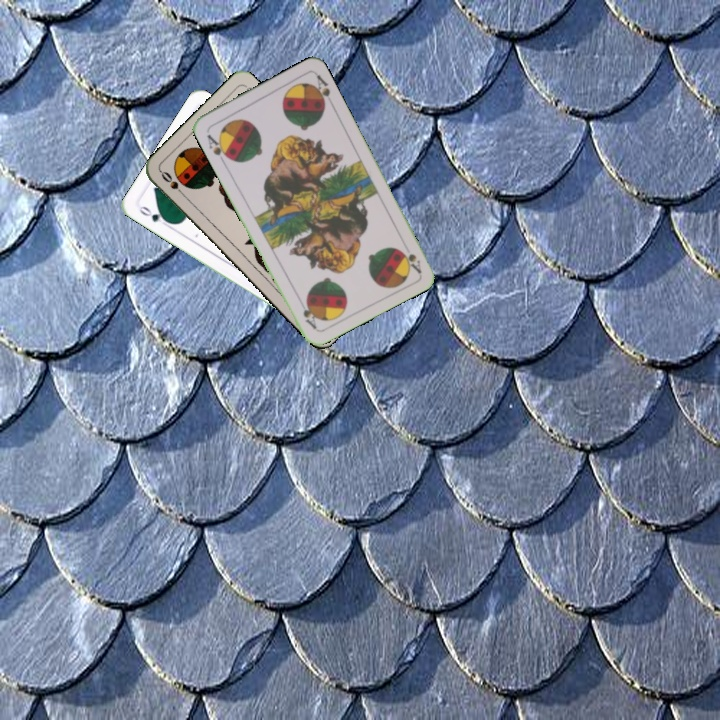GO: (135, 202, 173, 229)
SA: (203, 130, 233, 166), (396, 245, 424, 276)
SO: (157, 167, 189, 200)
